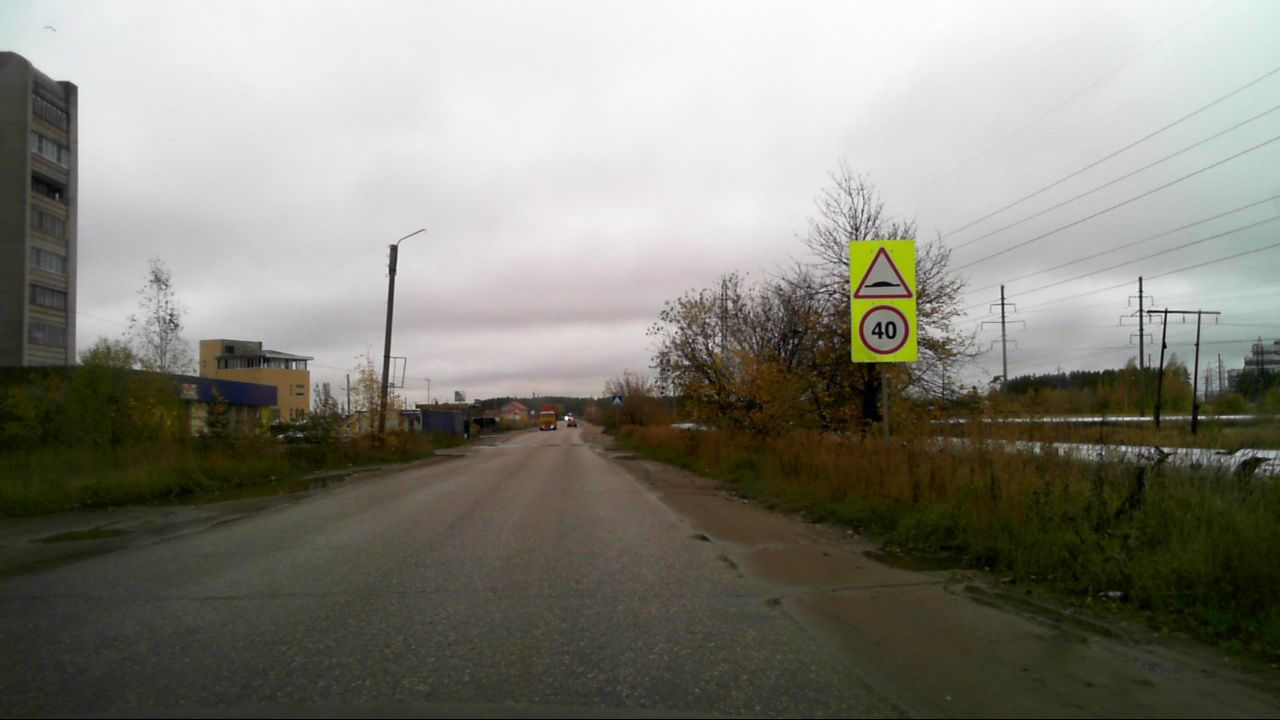speed_warning_40: (859, 305, 908, 354)
